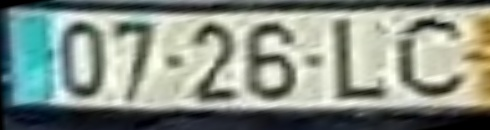0: (55, 19, 110, 103)
2: (186, 18, 243, 105)
6: (242, 18, 304, 106)
7: (109, 19, 160, 107)
C: (390, 13, 470, 102)
L: (327, 16, 389, 103)
